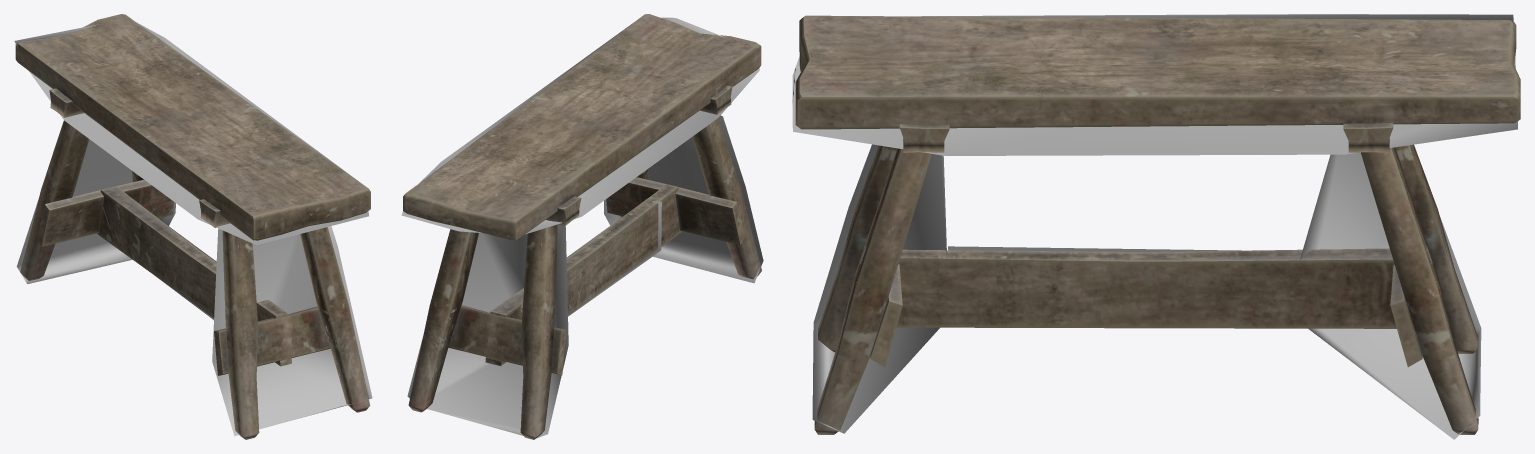
Rendered from SM_Bench.gltf.
3 renders of one model, left to right at view 1: azimuth 30°, elevation 25°; view 2: azimuth 150°, elevation 25°; view 3: azimuth 270°, elevation 25°, orthographic. The views are drawn at different scales.
Parts seen in each view (by area): view 1: SM_Bench_LOD0, SM_Bench_ConvexHulls; view 2: SM_Bench_LOD0, SM_Bench_ConvexHulls; view 3: SM_Bench_LOD0, SM_Bench_ConvexHulls.
Part boxes in pixels (x1,y1,x2,y2): SM_Bench_LOD0: (15, 14, 370, 439); SM_Bench_ConvexHulls: (14, 19, 372, 436); SM_Bench_LOD0: (403, 14, 761, 439); SM_Bench_ConvexHulls: (401, 17, 763, 438); SM_Bench_LOD0: (795, 15, 1520, 434); SM_Bench_ConvexHulls: (792, 14, 1517, 439).
Size of what is drawn, in the model's own units: 0.4666 by 0.7618 by 1.47.
